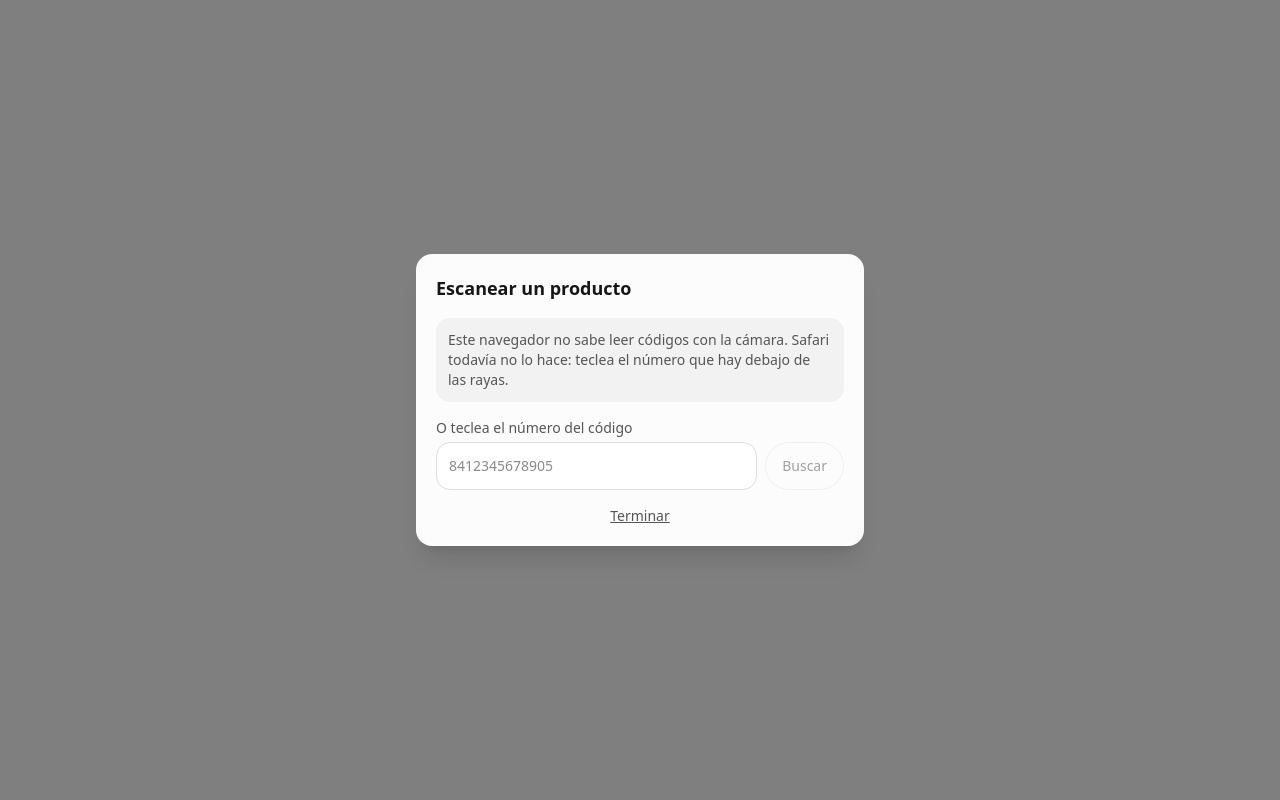
Test: ScanSheet › un código desconocido pide el nombre en vez de rendirse
Type "5449000000996" into the field labelled "O teclea el número del código Buscar" at (597, 466), box x1=436 y1=442 x2=757 y2=490
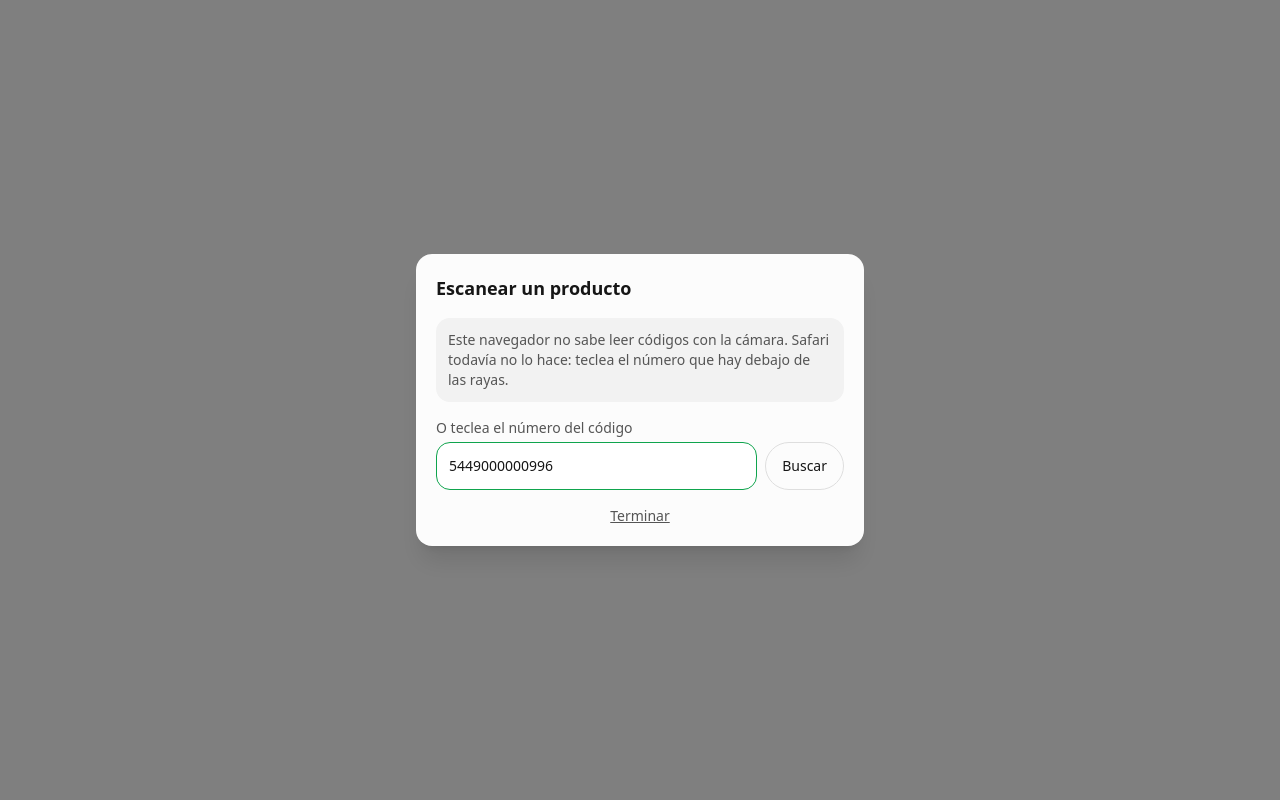
Click the button "Buscar" at (805, 466), box x1=765 y1=442 x2=844 y2=490
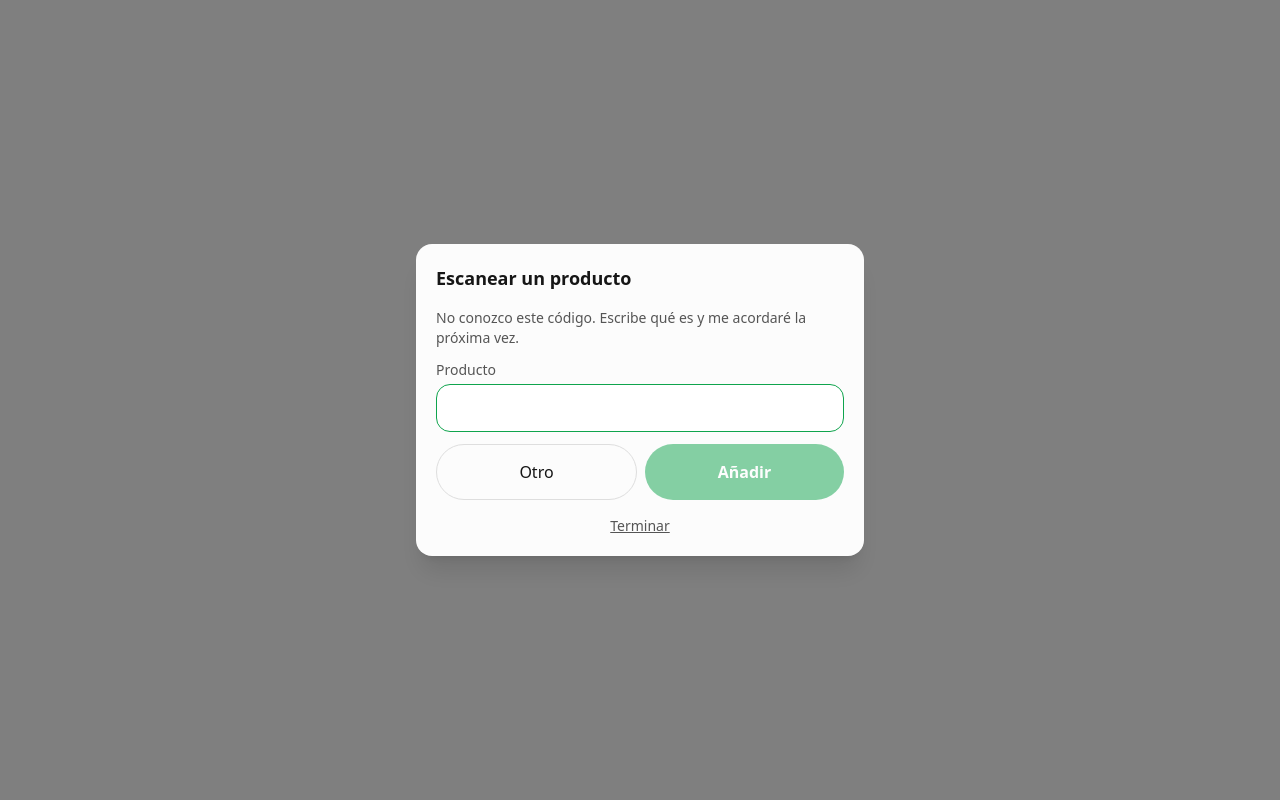
Expected: the text "No conozco este código. Escribe qué es y me acordaré la próxima vez." is shown, x1=436 y1=308 x2=844 y2=348
Expected: the field labelled "Producto" is empty, x1=436 y1=384 x2=844 y2=432
